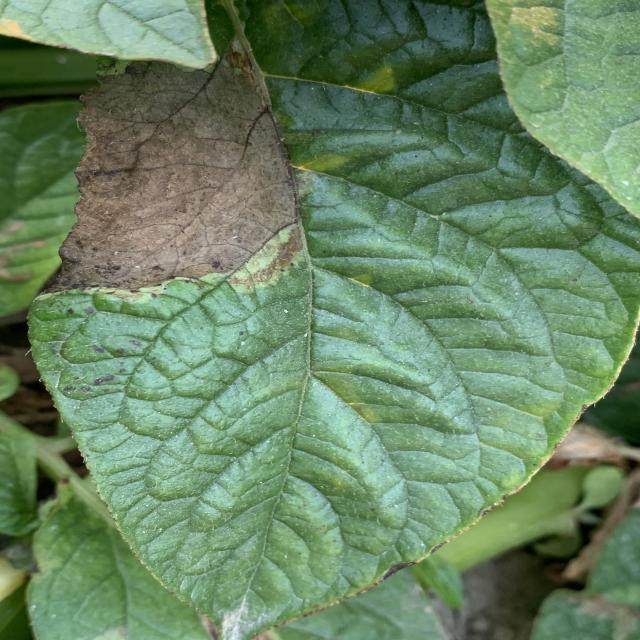lateblight: (53, 39, 298, 291)
